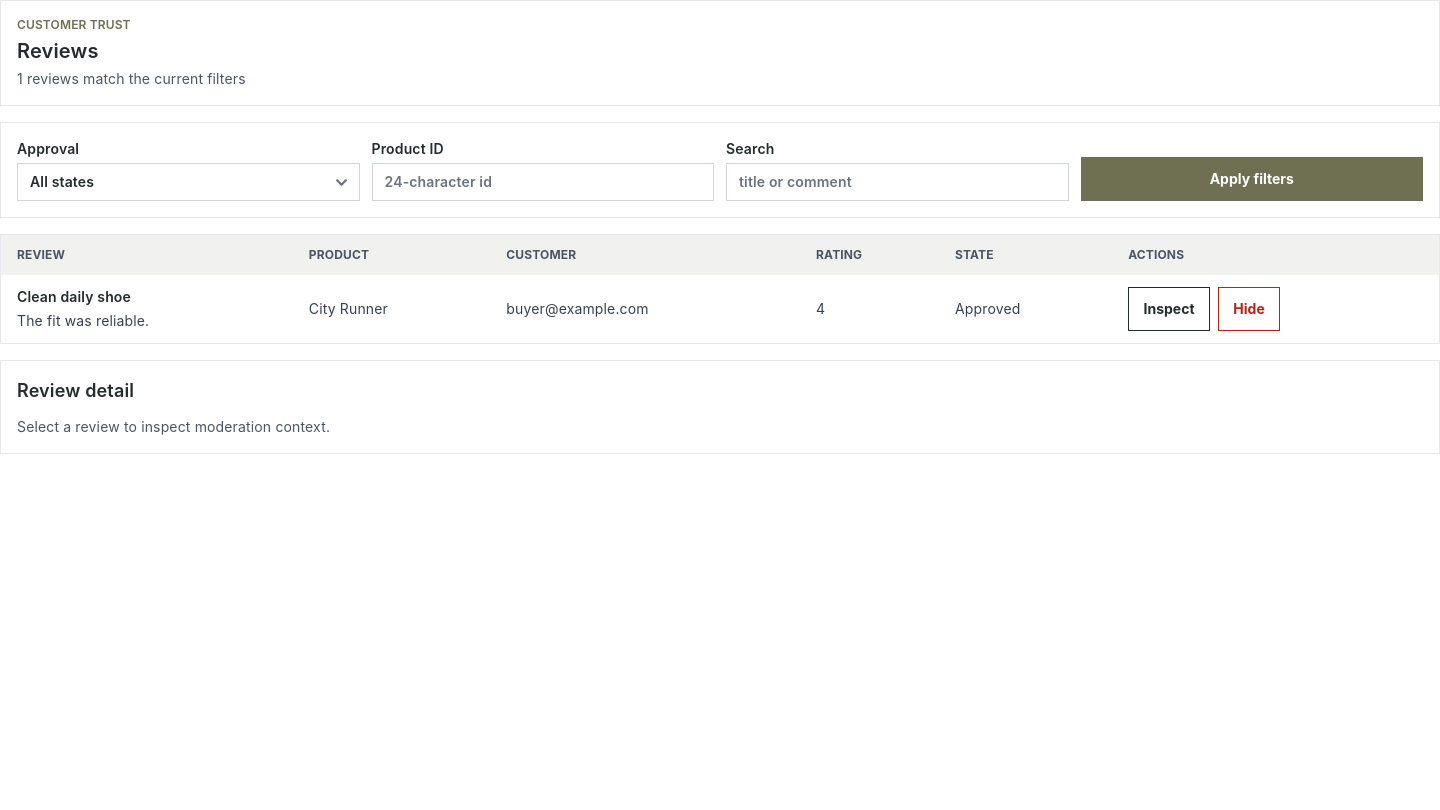
Test: loads review detail and hides an approved review
Click the button "Inspect" at (1169, 309), box 1128,287 -> 1210,331
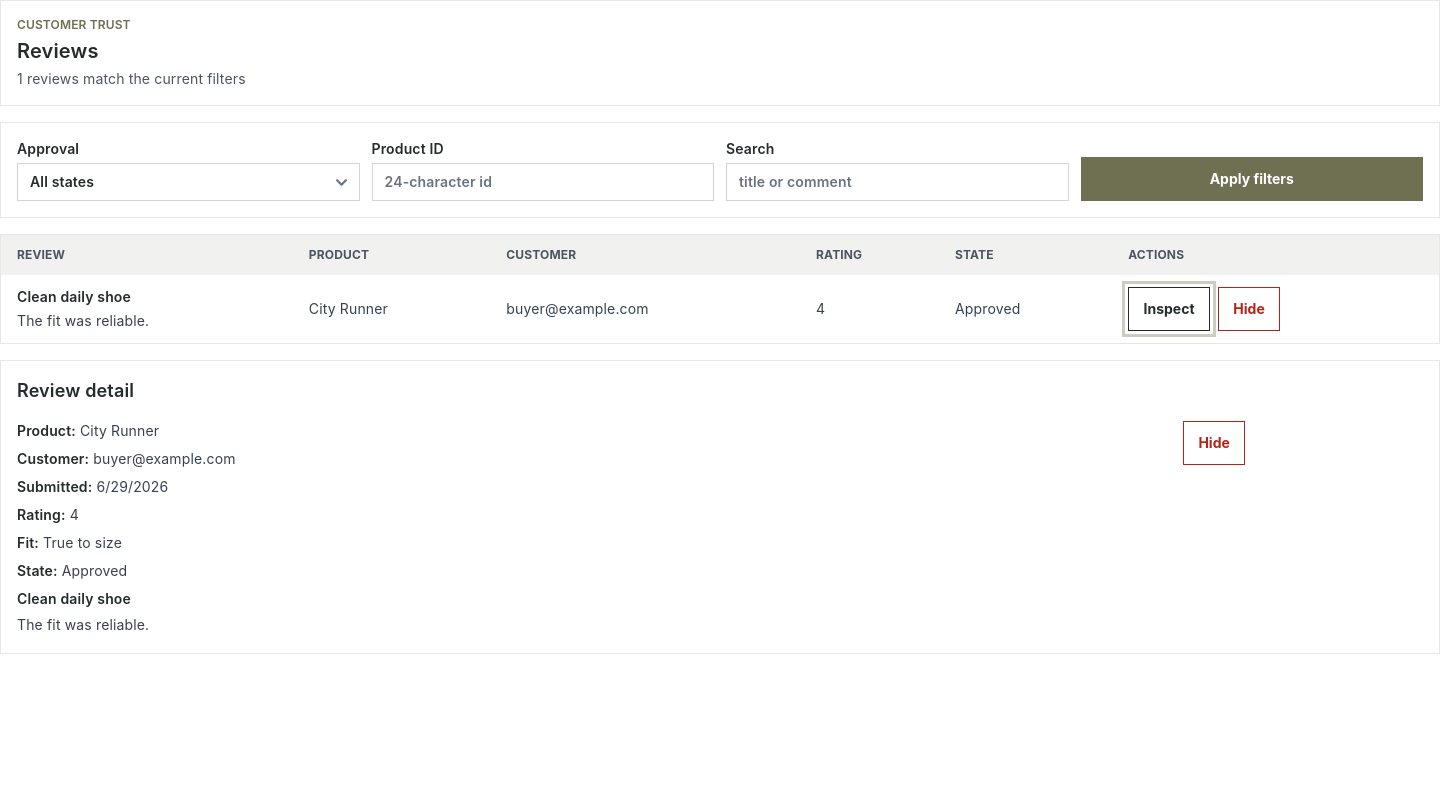
Check: the text "Fit: True to size" is shown, box 17,534 -> 122,551
Click the button "Hide" below "Actions" at (1249, 309), box 1218,287 -> 1280,331
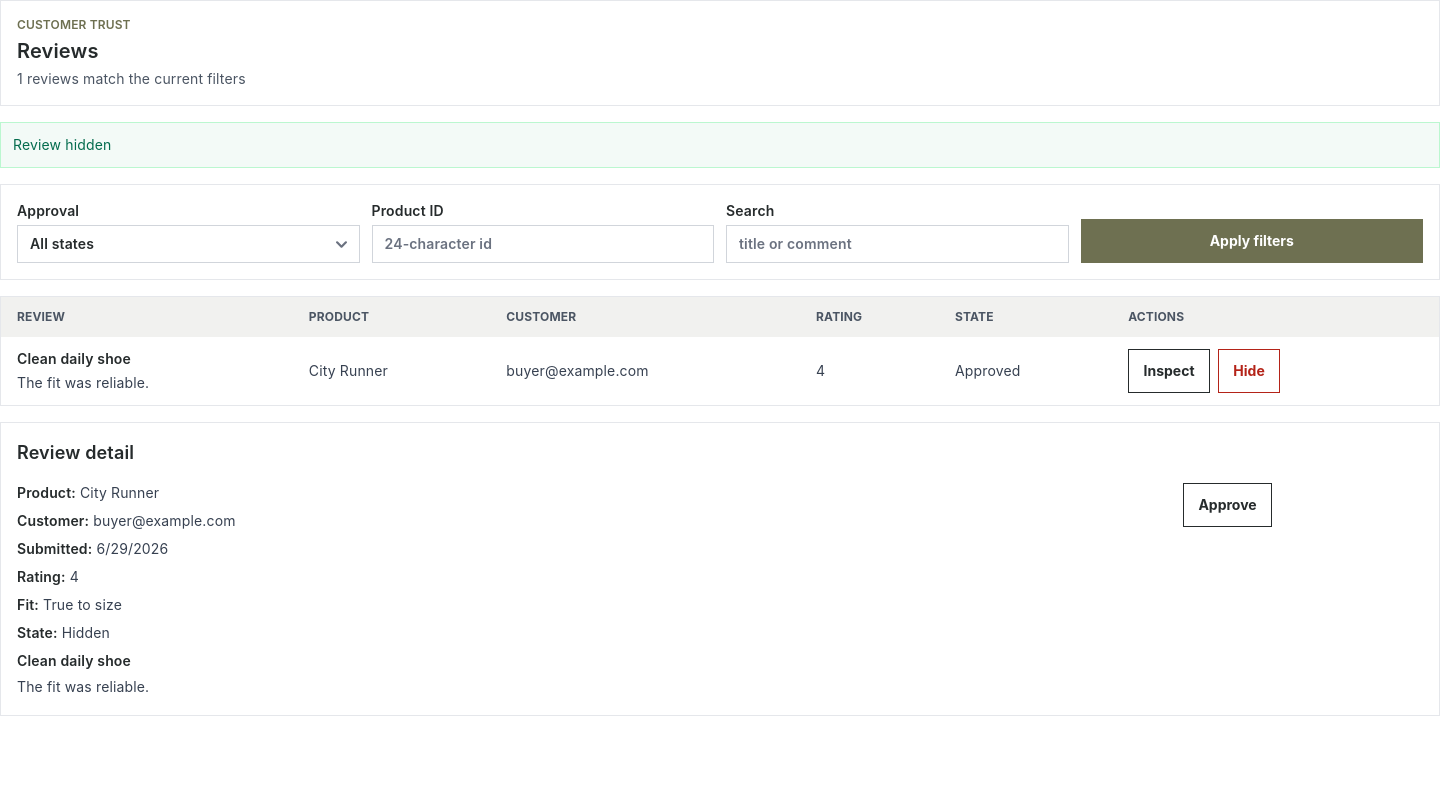
Check: the text "Review hidden" is shown, box 0,122 -> 1439,168
